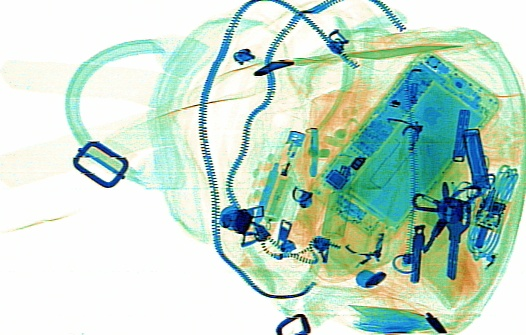lighter: (254, 128, 305, 220)
